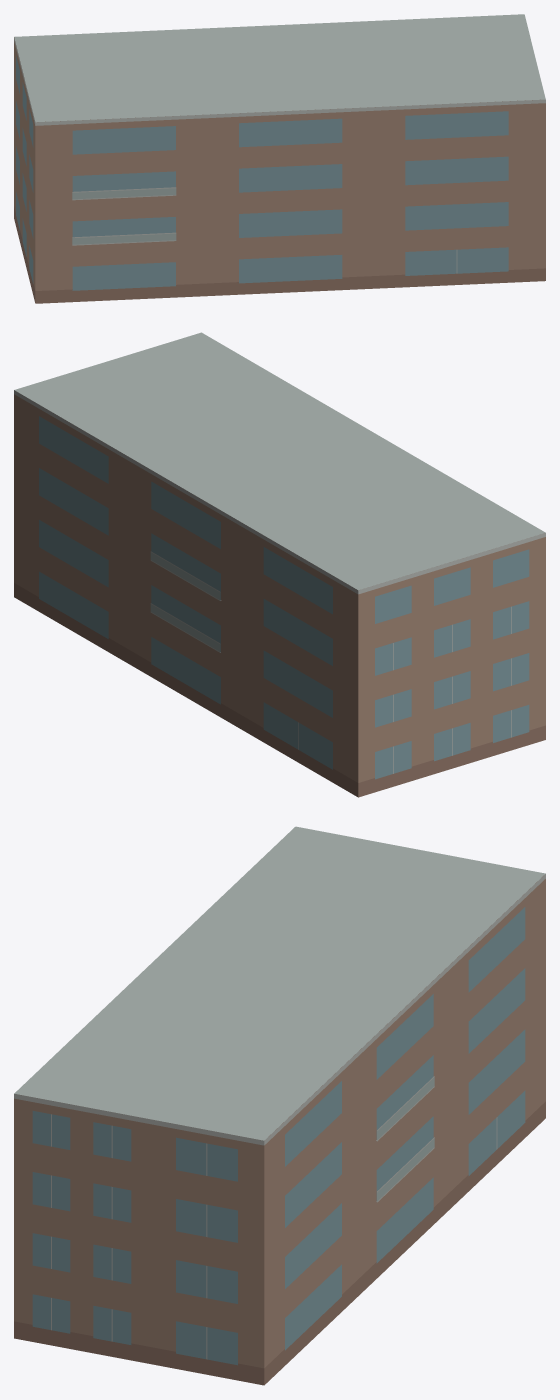
File: residential-f46357fe-f98c-422b-848b-3d1b2258411e.glb
The picture shows the model from 3 angles, top to bottom: view 1: azimuth 30°, elevation 25°; view 2: azimuth 150°, elevation 25°; view 3: azimuth 270°, elevation 25°; orthographic projection. The views are drawn at different scales.
Parts seen in each view (by area): view 1: residential-f46357fe-f98c-422b-848b-3d1b2258411e.tmp; view 2: residential-f46357fe-f98c-422b-848b-3d1b2258411e.tmp; view 3: residential-f46357fe-f98c-422b-848b-3d1b2258411e.tmp.
Part boxes in pixels (left/top/right/bottom): residential-f46357fe-f98c-422b-848b-3d1b2258411e.tmp: left=14, top=14, right=545, bottom=303; residential-f46357fe-f98c-422b-848b-3d1b2258411e.tmp: left=14, top=332, right=545, bottom=797; residential-f46357fe-f98c-422b-848b-3d1b2258411e.tmp: left=14, top=826, right=545, bottom=1385.
Size of the model in its own units: 33.6 by 12.2 by 24.03.
